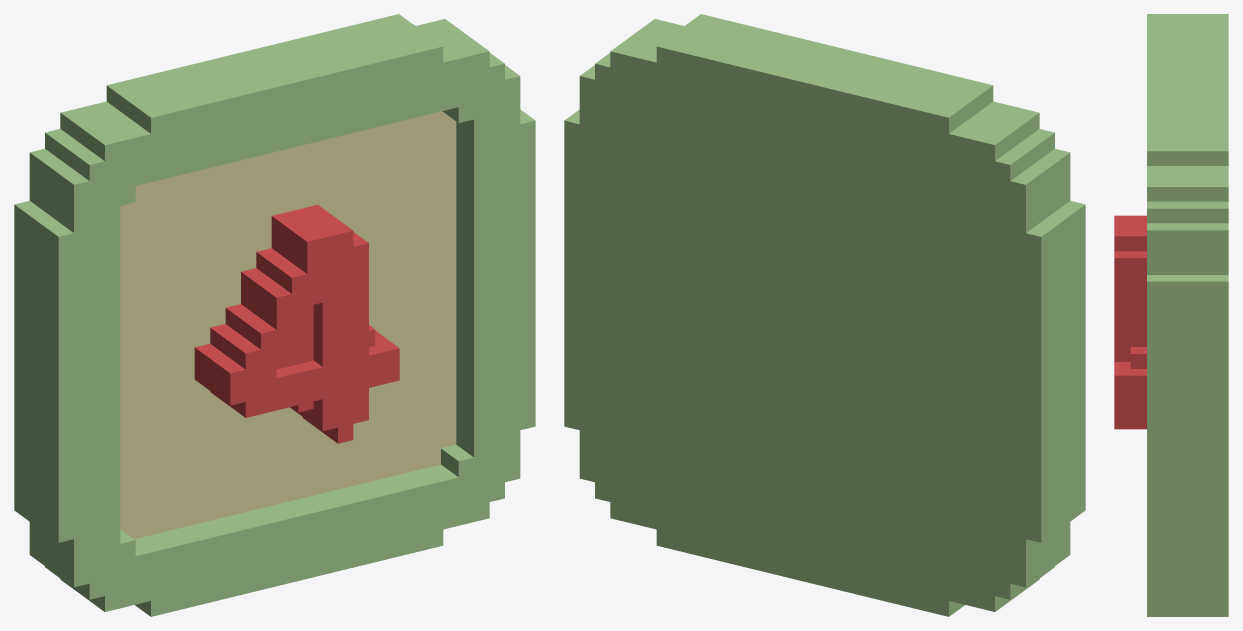
The model's file is roll_4.fbx.
3 renders of one model, left to right at view 1: azimuth 30°, elevation 25°; view 2: azimuth 150°, elevation 25°; view 3: azimuth 270°, elevation 25°, orthographic. The views are drawn at different scales.
Parts seen in each view (by area): view 1: OUT; view 2: OUT; view 3: OUT.
Boxes of the visible parts, x1,y1,x2,y2 form: OUT: [14, 14, 535, 616]; OUT: [564, 14, 1085, 616]; OUT: [1114, 14, 1228, 616].
Size of the model in its own units: 1.55 by 1.55 by 0.3502.
